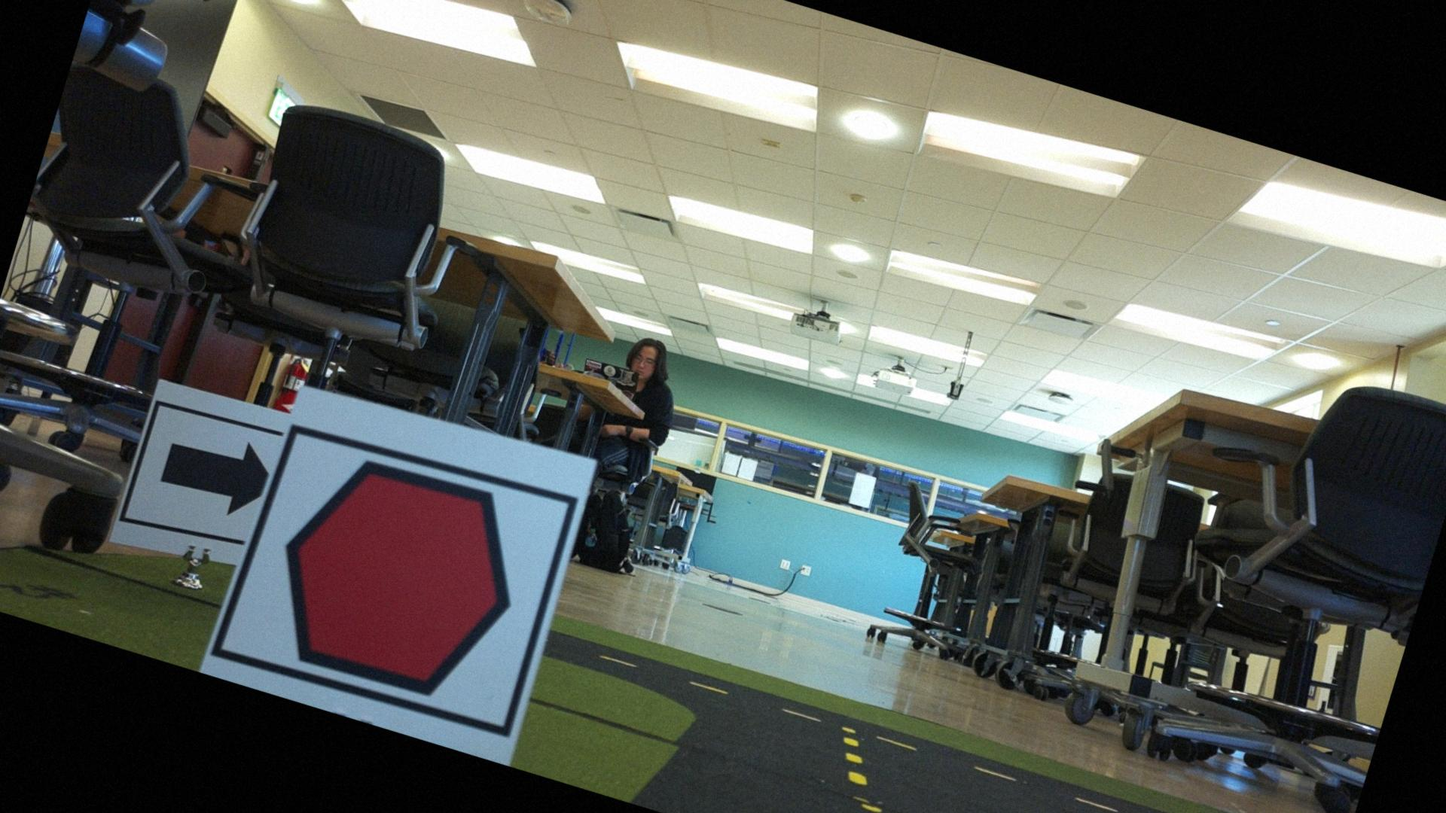stop: (237, 428, 559, 729)
turnright: (130, 406, 279, 538)
yellowline: (832, 731, 884, 790)
